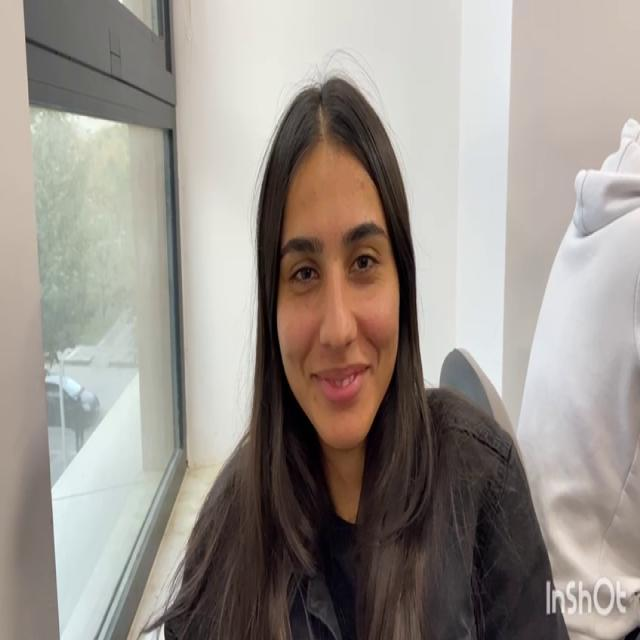happy: (266, 125, 404, 443)
